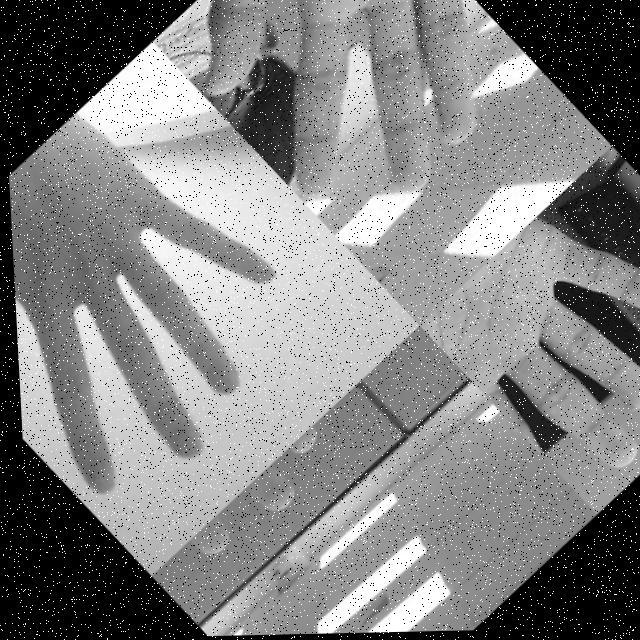no-gloves: (4, 82, 336, 536), (153, 0, 549, 253), (409, 183, 640, 510)
